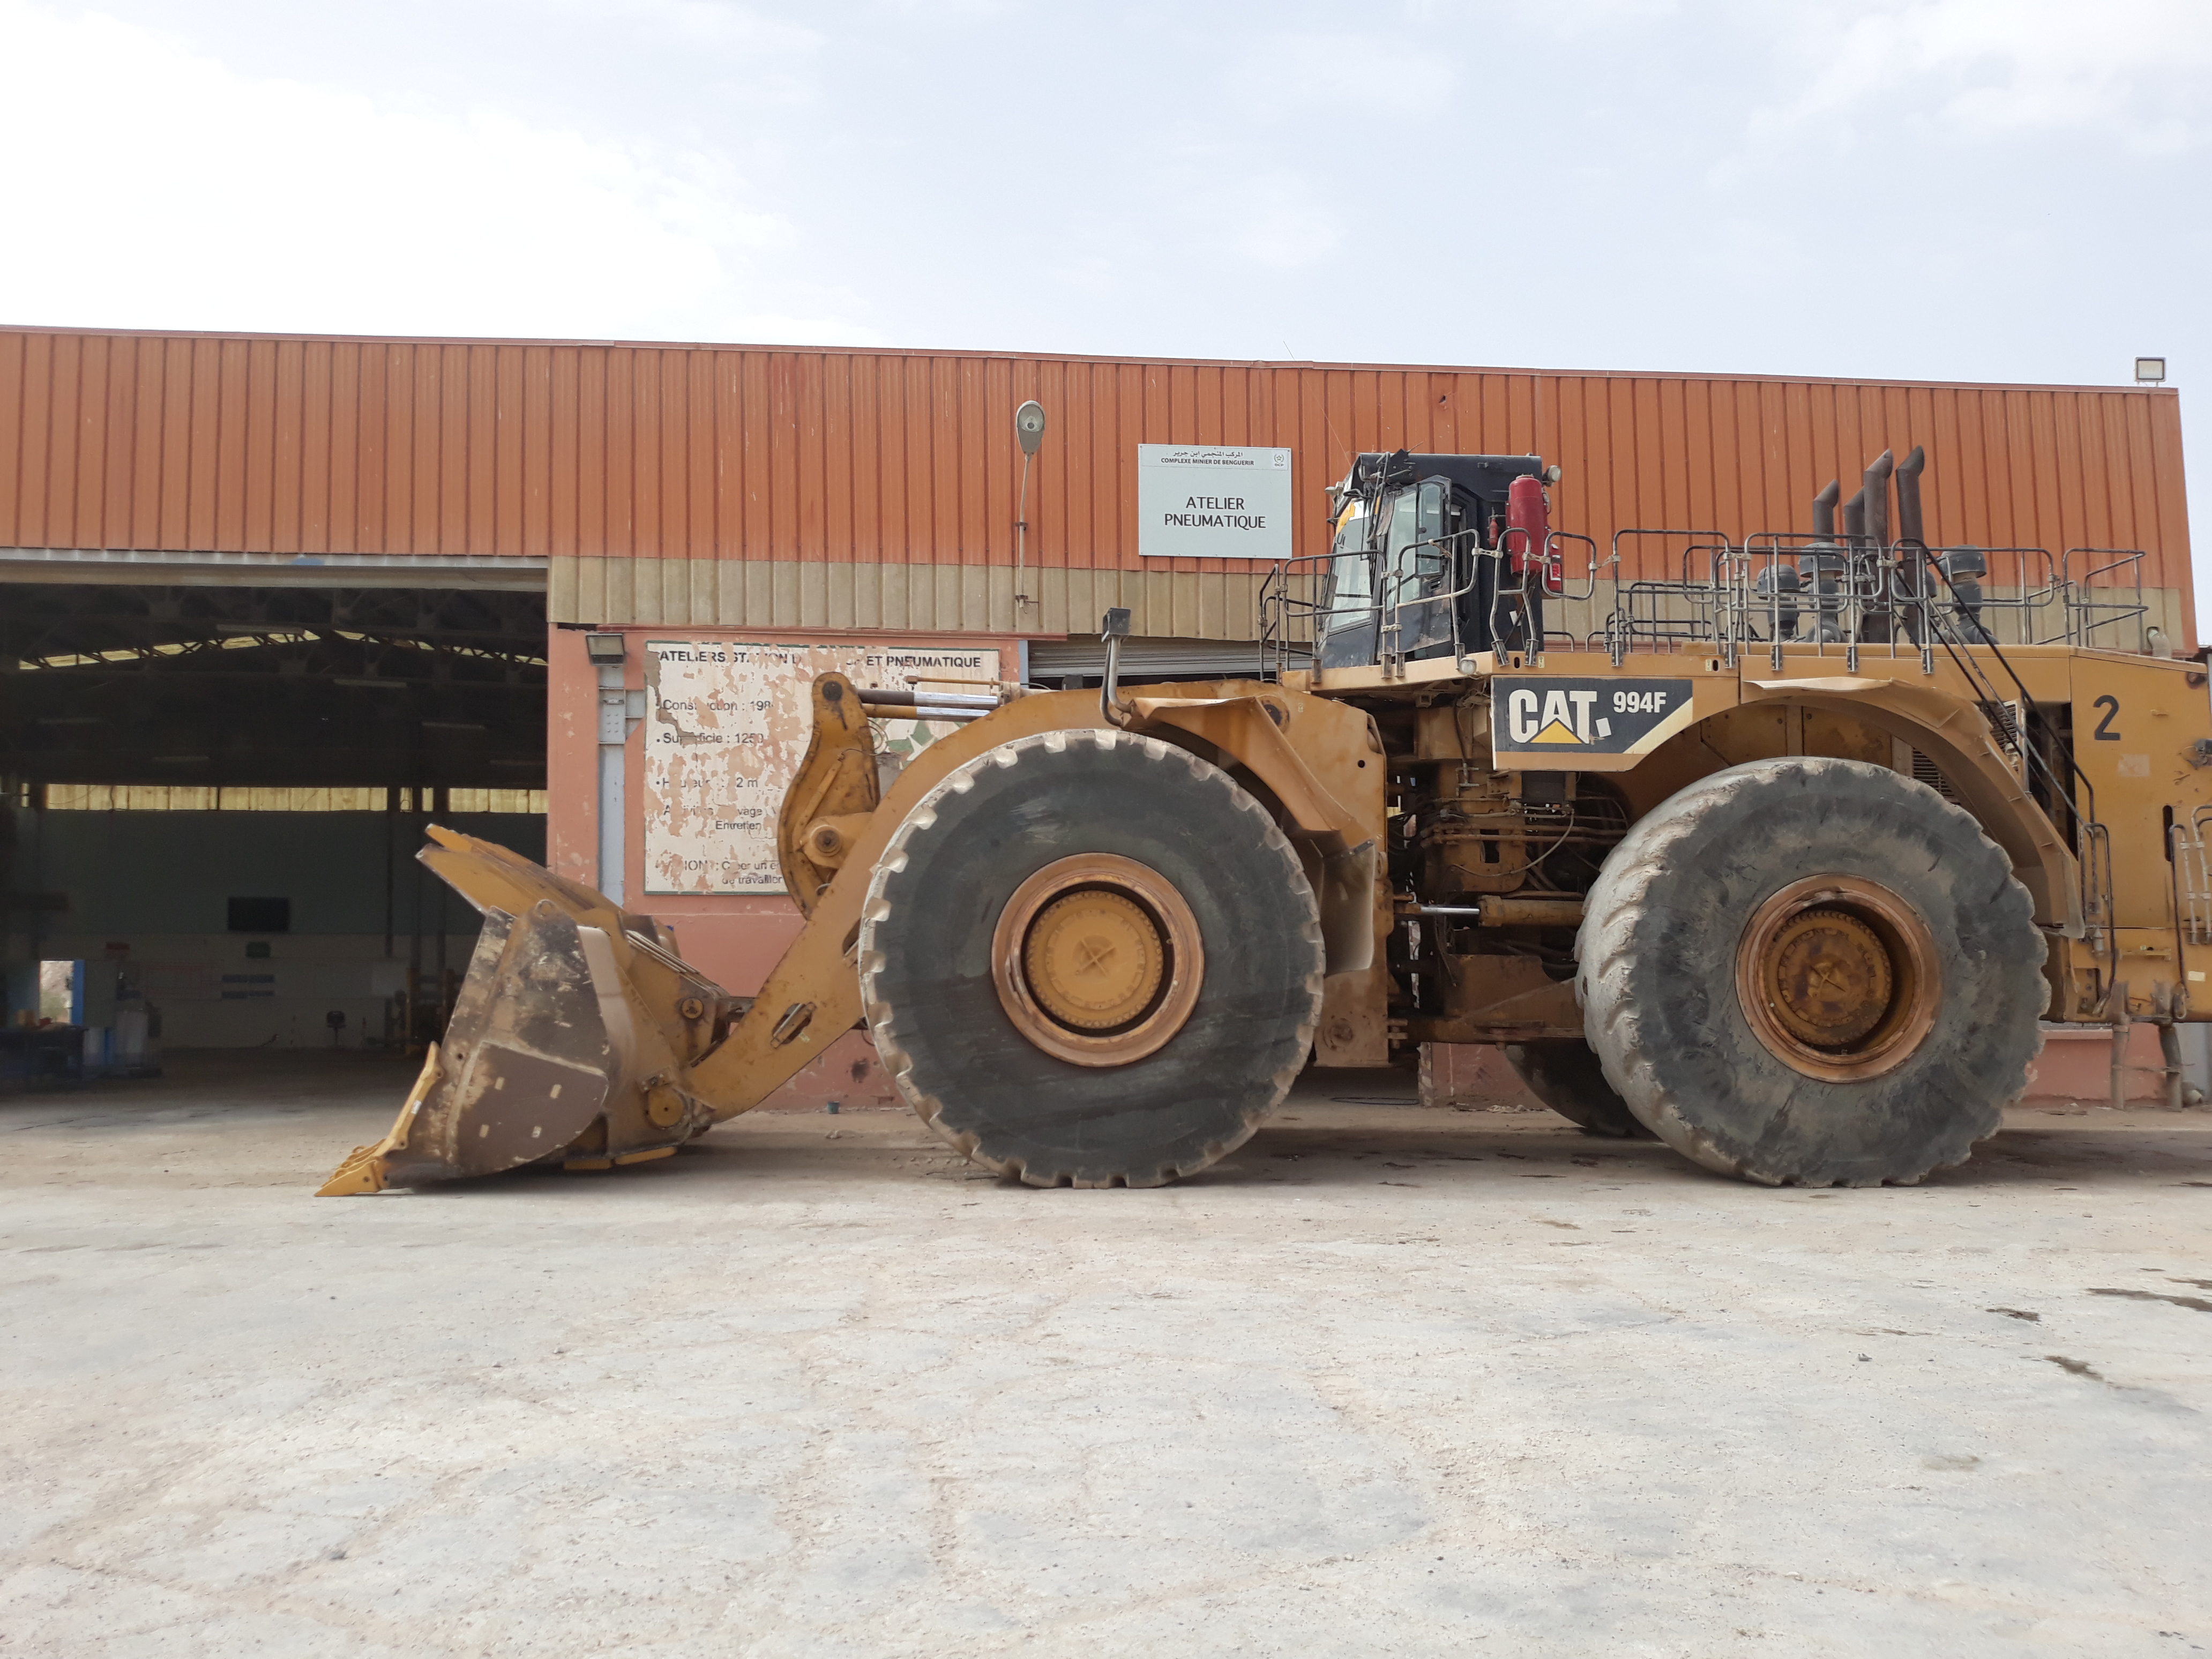chargeuse: (394, 432, 2212, 1251)
